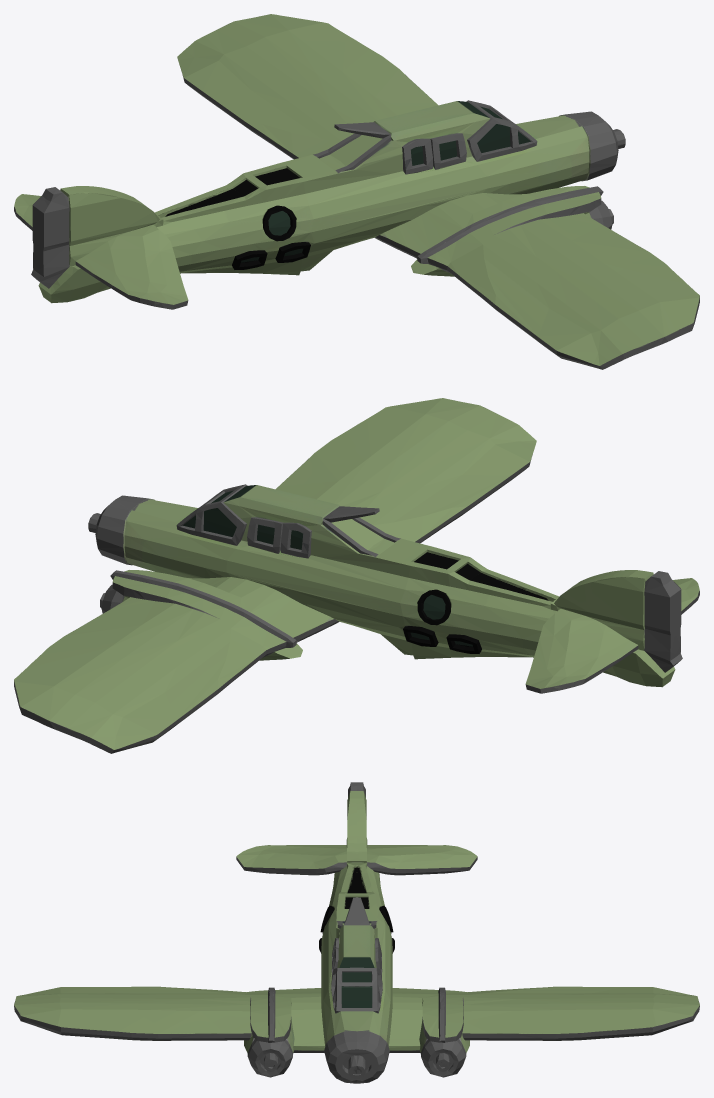
The picture shows the model from 3 angles, top to bottom: view 1: azimuth 30°, elevation 25°; view 2: azimuth 150°, elevation 25°; view 3: azimuth 270°, elevation 25°; orthographic projection. The views are drawn at different scales.
Visible parts, largest first — view 1: Plane; view 2: Plane; view 3: Plane.
Boxes of the visible parts, x1,y1,x2,y2 form: Plane: (14,14,699,369); Plane: (14,398,699,753); Plane: (14,782,699,1083).
Bounding box in the file's own units: 0.8834 × 0.1996 × 1.13.
Materials: 8 (8 with a texture image).
